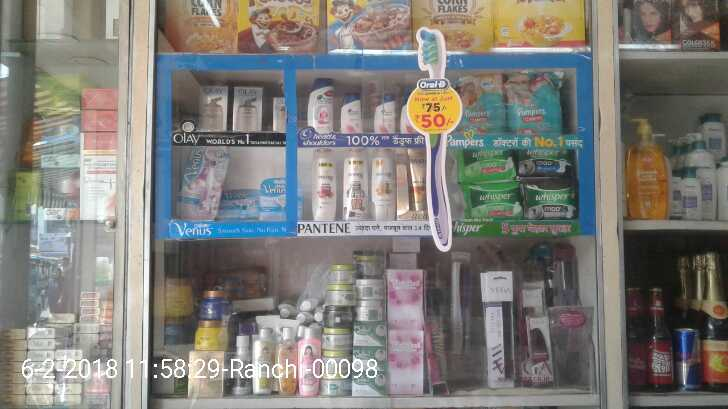venus: (179, 149, 217, 217), (220, 184, 259, 219), (259, 177, 288, 219)
